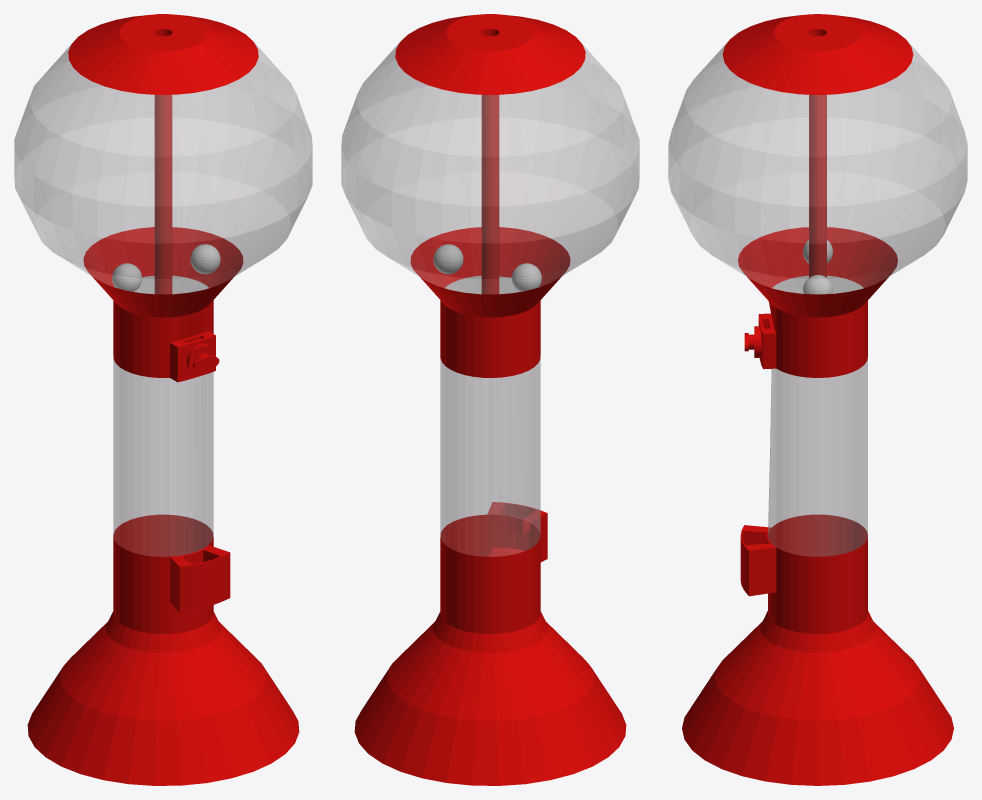
Rendered from maquina chicle.fbx.
The picture shows the model from 3 angles, left to right: view 1: azimuth 30°, elevation 25°; view 2: azimuth 150°, elevation 25°; view 3: azimuth 270°, elevation 25°; orthographic projection.
Visible parts, largest first — view 1: Circle, Circle.001, Sphere.001, Sphere; view 2: Circle, Sphere.001, Sphere; view 3: Circle.
Boxes of the visible parts, bbox=[...] form: Circle: bbox=[14, 14, 312, 785]; Circle.001: bbox=[186, 343, 219, 375]; Sphere.001: bbox=[190, 244, 220, 274]; Sphere: bbox=[112, 263, 142, 291]; Circle: bbox=[341, 14, 639, 785]; Sphere.001: bbox=[433, 244, 463, 274]; Sphere: bbox=[511, 263, 541, 291]; Circle: bbox=[668, 14, 967, 785].
Bounding box in the file's own units: 220 × 564 × 220.
